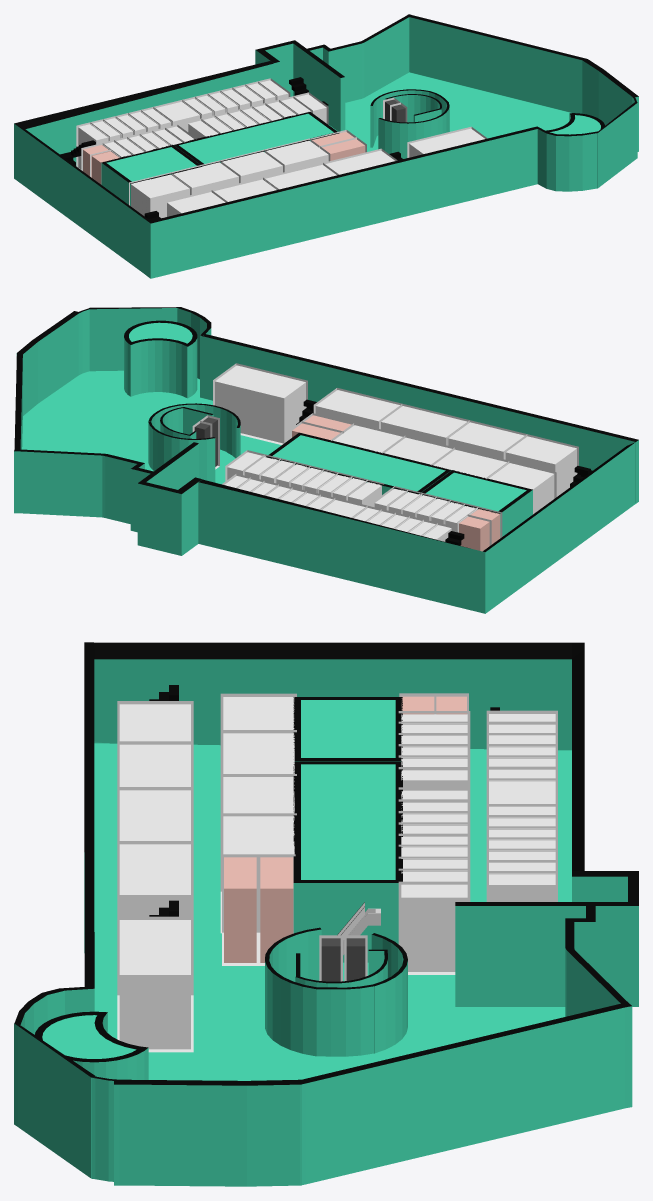
The picture shows the model from 3 angles, top to bottom: view 1: azimuth 30°, elevation 25°; view 2: azimuth 150°, elevation 25°; view 3: azimuth 270°, elevation 25°; orthographic projection. The views are drawn at different scales.
Parts seen in each view (by area): view 1: object, room_9_7_39, room_9_7_2, room_9_7_3, room_9_7_5, room_9_7_4, room_9_7_10, room_9_7_8, room_9_7_9, room_9_7_6, room_9_7_7, room_9_7_1 (+4 smaller); view 2: object, room_9_7_10, room_9_7_6, room_9_7_39, room_9_7_8, room_9_7_9, room_9_7_7, room_9_7_2, room_9_7_3, room_9_7_4, room_9_7_5, トイレ_9_7_1 (+6 smaller); view 3: object, room_9_7_10, room_9_7_9, room_9_7_38, room_9_7_8, トイレ_9_7_2, room_9_7_7, room_9_7_3, トイレ_9_7_4, room_9_7_5, room_9_7_6, room_9_7_4 (+11 smaller).
Boxes of the visible parts, x1,y1,x2,y2 form: object: (14, 14, 638, 278); room_9_7_39: (449, 104, 534, 138); room_9_7_2: (131, 174, 189, 218); room_9_7_3: (171, 162, 238, 195); room_9_7_5: (266, 140, 328, 171); room_9_7_4: (221, 151, 282, 183); room_9_7_10: (409, 128, 484, 157); room_9_7_8: (263, 165, 336, 189); room_9_7_9: (325, 150, 394, 174); room_9_7_6: (167, 192, 225, 216); room_9_7_7: (214, 179, 276, 201); room_9_7_1: (154, 102, 199, 130); object: (14, 307, 638, 613); room_9_7_10: (215, 365, 305, 443); room_9_7_6: (505, 436, 576, 496); room_9_7_39: (50, 421, 148, 457); room_9_7_8: (381, 406, 468, 445); room_9_7_9: (315, 390, 399, 428); room_9_7_7: (448, 422, 524, 459); room_9_7_2: (488, 463, 554, 514); room_9_7_3: (433, 449, 508, 478); room_9_7_4: (384, 437, 453, 465); room_9_7_5: (333, 425, 402, 452); トイレ_9_7_1: (459, 516, 489, 551); object: (14, 642, 638, 1186); room_9_7_10: (119, 920, 190, 1049); room_9_7_9: (119, 844, 190, 916); room_9_7_38: (401, 884, 467, 971); room_9_7_8: (119, 790, 190, 840); トイレ_9_7_2: (224, 857, 256, 962); room_9_7_7: (119, 744, 190, 790); room_9_7_3: (223, 733, 294, 776); トイレ_9_7_4: (260, 857, 293, 962); room_9_7_5: (223, 816, 294, 854); room_9_7_6: (119, 704, 190, 741); room_9_7_4: (223, 777, 294, 813).
Bounding box in the file's own units: 2.34 × 0.2835 × 1.4.
